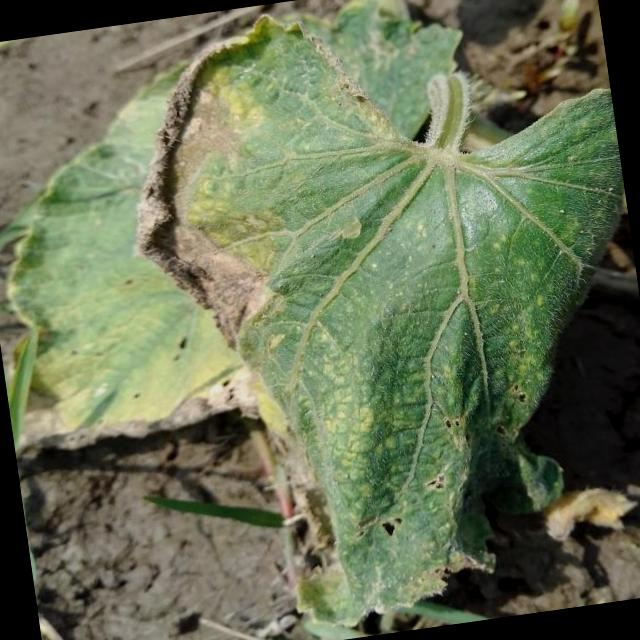cucumber_gummy: (97, 0, 640, 640)
